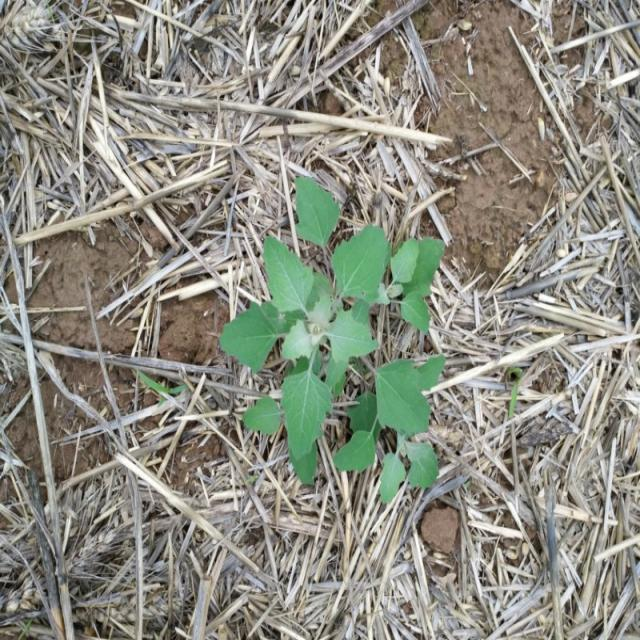goosefoots: (165, 175, 482, 516)
